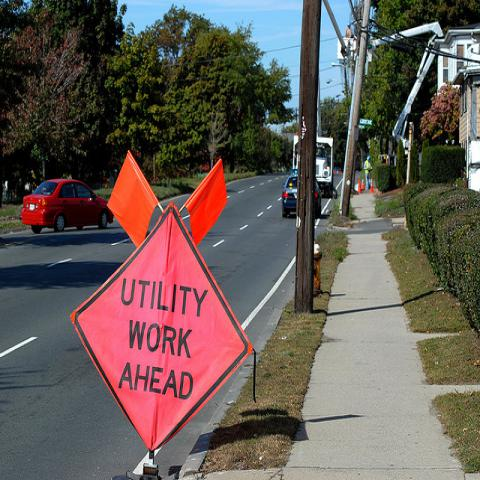car: (21, 179, 115, 233), (282, 172, 322, 218)
truck: (292, 134, 334, 199)
